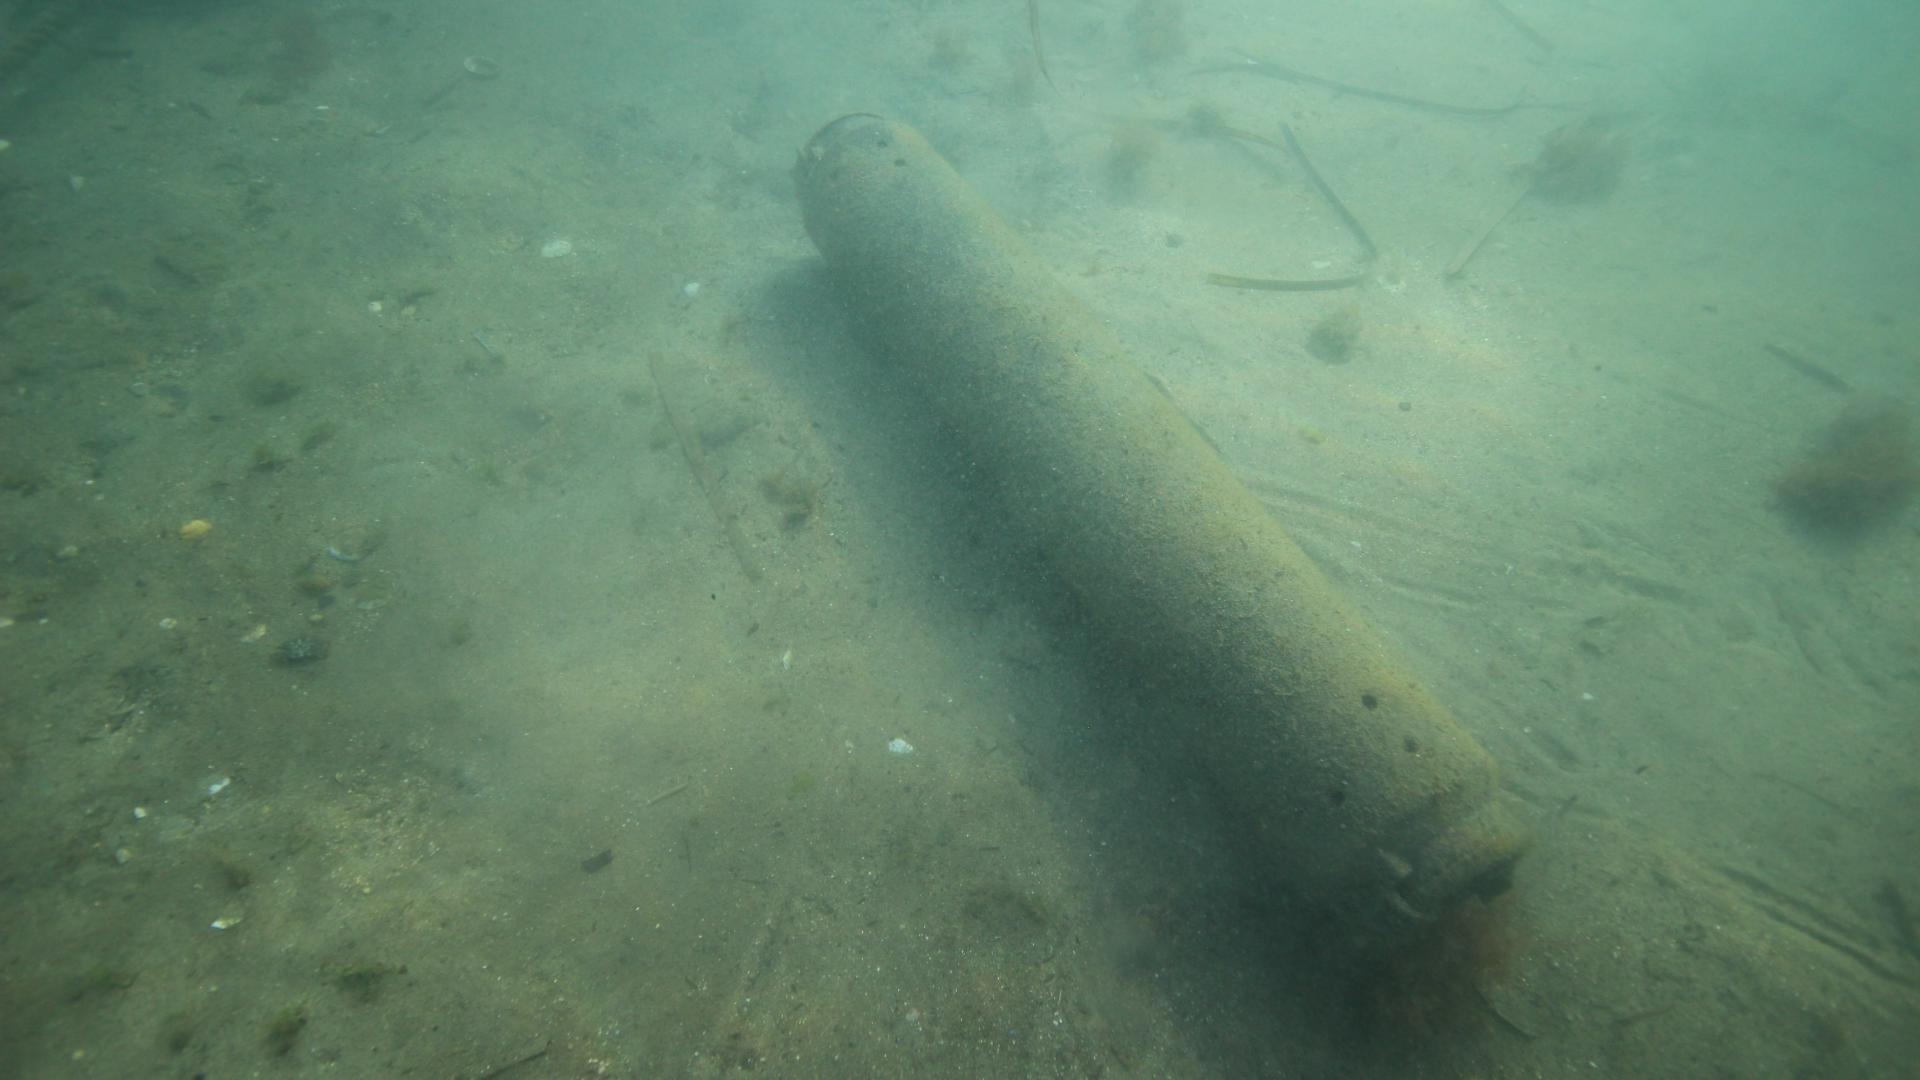eel fish trap: (794, 103, 1538, 963)
